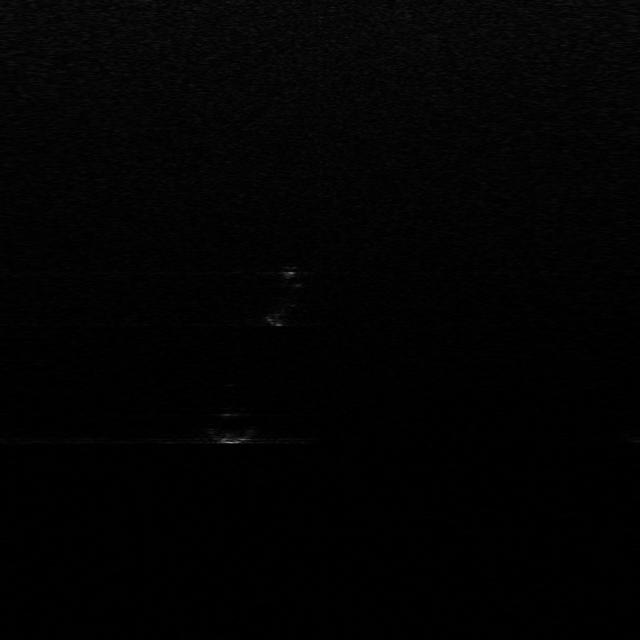ball: (199, 404, 262, 442)
tyre: (261, 262, 307, 327)
